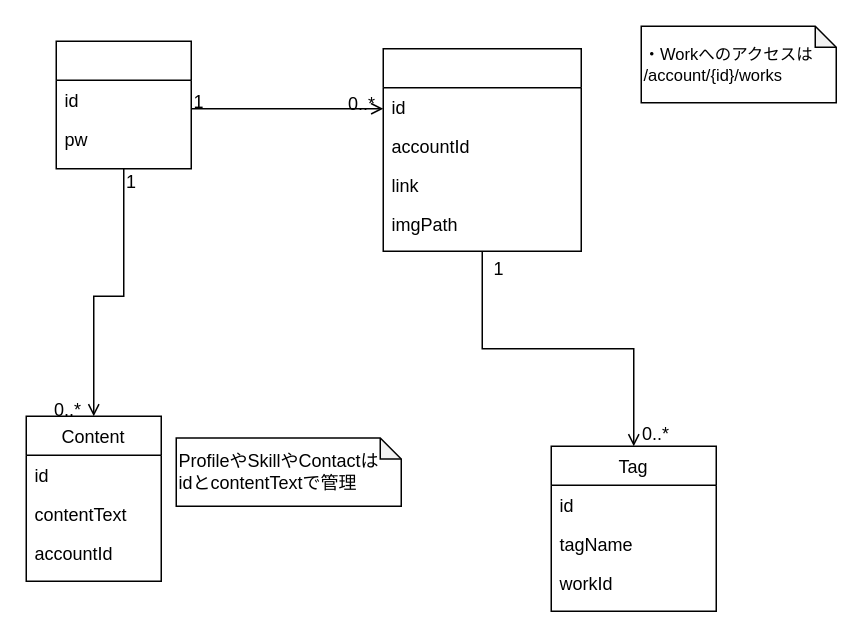
Some shapes in this 863 by 638 pixel diagram are drawn without their labels. Here are the shapes that lost their labels. From the top down, the box of each, then its label:
(55, 40, 191, 169): Account
(382, 47, 581, 251): Work
